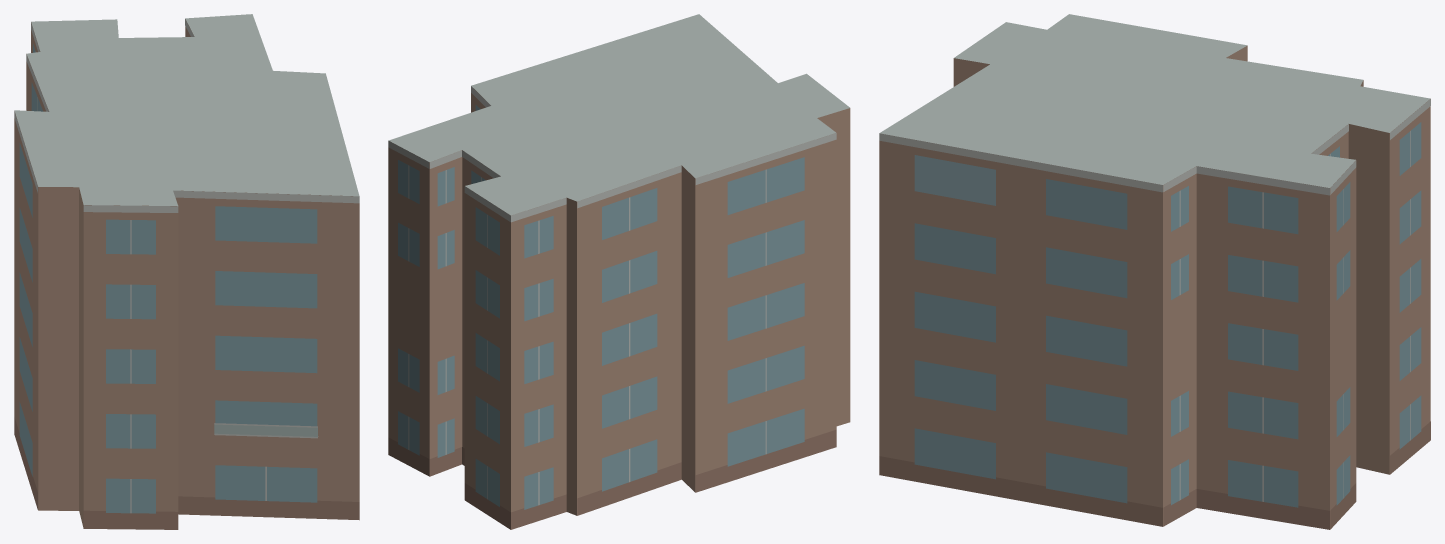
The model's file is survey-upis-32657933.glb.
3 views of the same model, side by side, from view 1: azimuth 30°, elevation 25°; view 2: azimuth 150°, elevation 25°; view 3: azimuth 270°, elevation 25° (orthographic). The views are drawn at different scales.
Visible parts, largest first — view 1: survey-upis-32657933.tmp; view 2: survey-upis-32657933.tmp; view 3: survey-upis-32657933.tmp.
Part boxes in pixels (x1,y1,x2,y2): survey-upis-32657933.tmp: [14, 14, 359, 529]; survey-upis-32657933.tmp: [388, 14, 850, 529]; survey-upis-32657933.tmp: [879, 14, 1430, 529].
Size of the model in its own units: 12.3 by 11.25 by 16.46.
